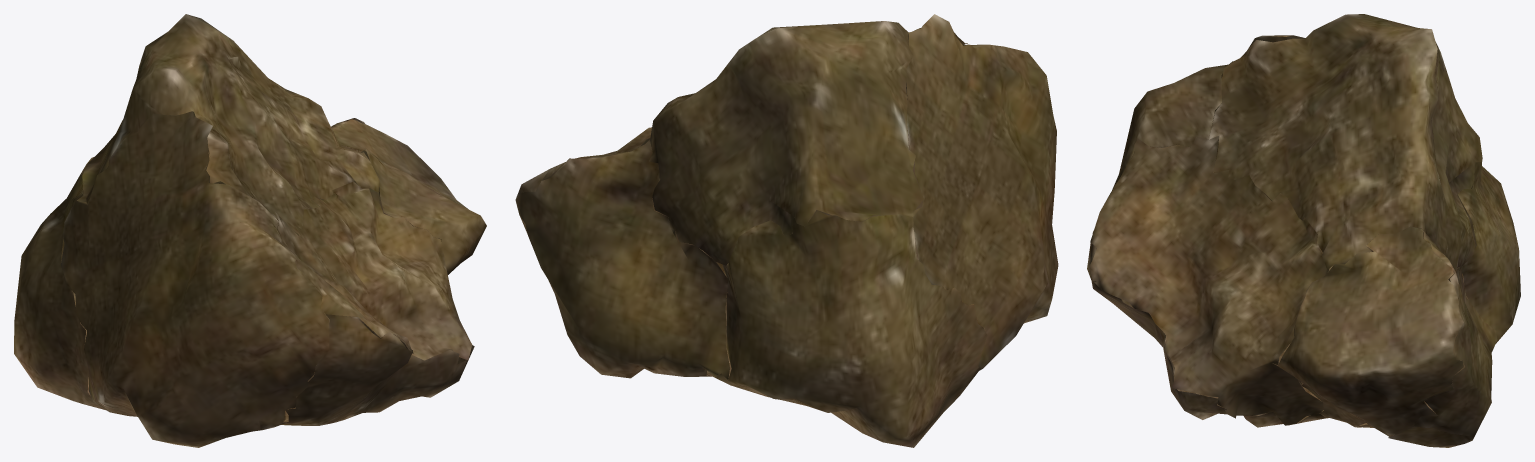
Rendered from stone_03.glb.
3 views of the same model, side by side, from view 1: azimuth 30°, elevation 25°; view 2: azimuth 150°, elevation 25°; view 3: azimuth 270°, elevation 25° (orthographic). The views are drawn at different scales.
Parts seen in each view (by area): view 1: stone_03; view 2: stone_03; view 3: stone_03.
Boxes of the visible parts, <box> form: stone_03: <box>14,14,486,447</box>; stone_03: <box>515,14,1058,447</box>; stone_03: <box>1087,14,1520,447</box>.
Bounding box in the file's own units: 2.13 × 1.77 × 1.98.
1 material, 1 textured.
